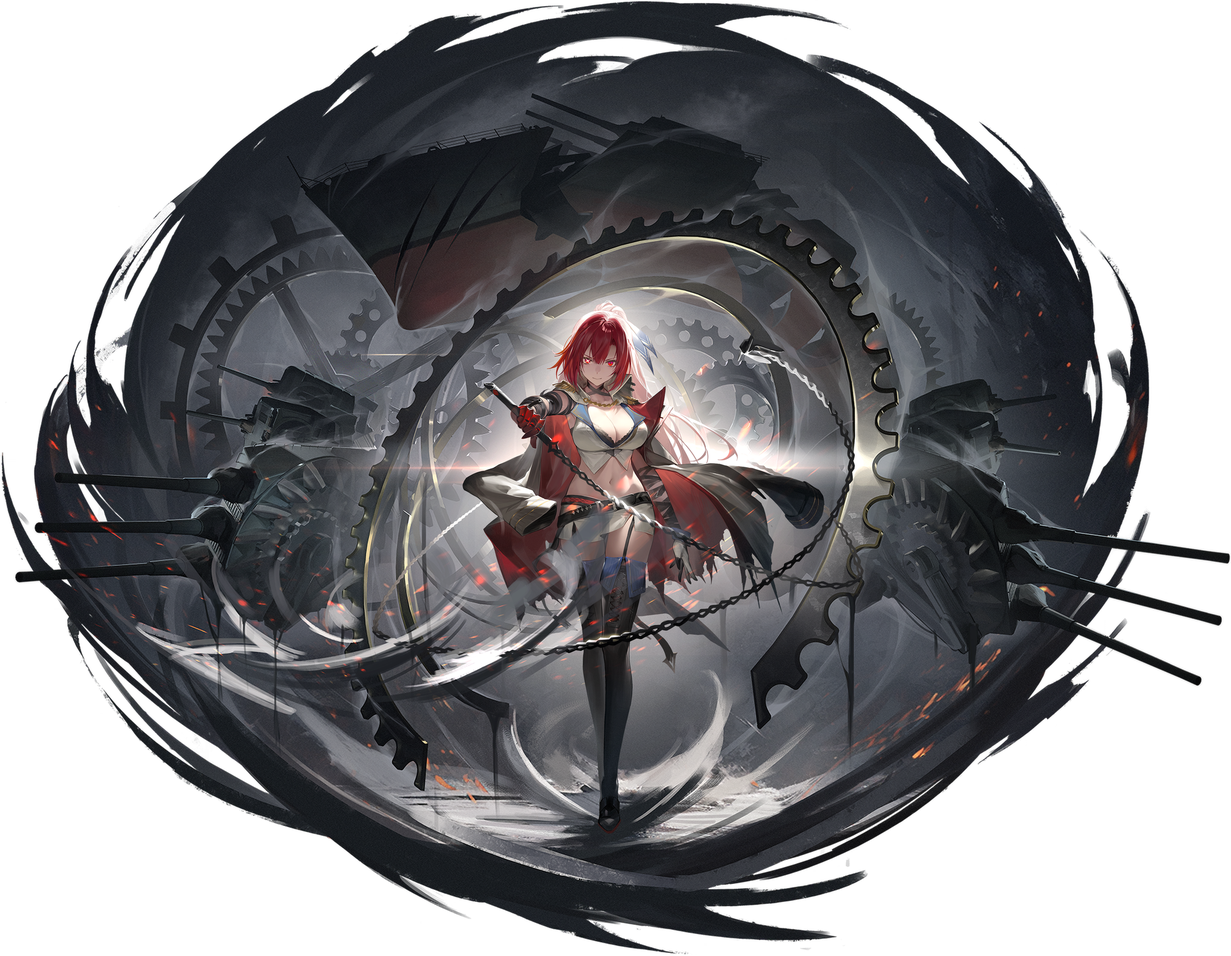person: (417, 281, 773, 858)
